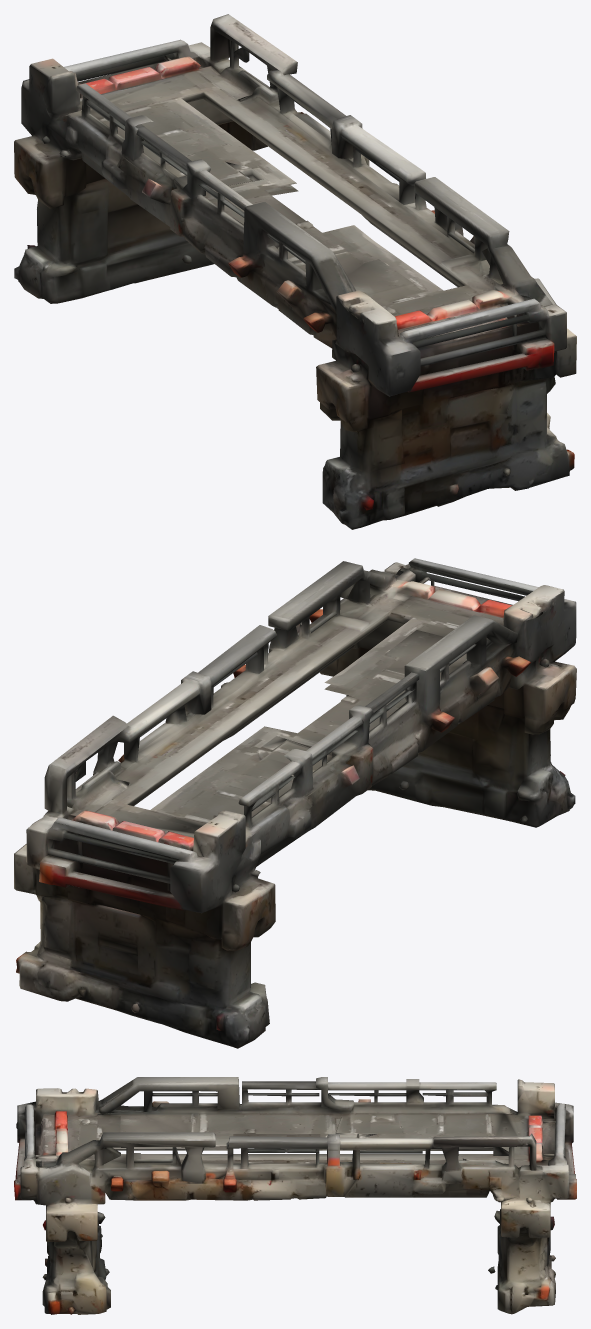
The model's file is bridge_section.glb.
The picture shows the model from 3 angles, top to bottom: view 1: azimuth 30°, elevation 25°; view 2: azimuth 150°, elevation 25°; view 3: azimuth 270°, elevation 25°; orthographic projection. The views are drawn at different scales.
Parts seen in each view (by area): view 1: tripo_node_312daa18-3df8-4693-88c2-ede28b1dd4fd; view 2: tripo_node_312daa18-3df8-4693-88c2-ede28b1dd4fd; view 3: tripo_node_312daa18-3df8-4693-88c2-ede28b1dd4fd.
Boxes of the visible parts, x1=… form: tripo_node_312daa18-3df8-4693-88c2-ede28b1dd4fd: x1=14, y1=14, x2=576, y2=529; tripo_node_312daa18-3df8-4693-88c2-ede28b1dd4fd: x1=14, y1=558, x2=576, y2=1048; tripo_node_312daa18-3df8-4693-88c2-ede28b1dd4fd: x1=14, y1=1077, x2=576, y2=1314.
Size of the model in its own units: 0.8844 by 0.85 by 2.51.
1 material, 1 textured.
